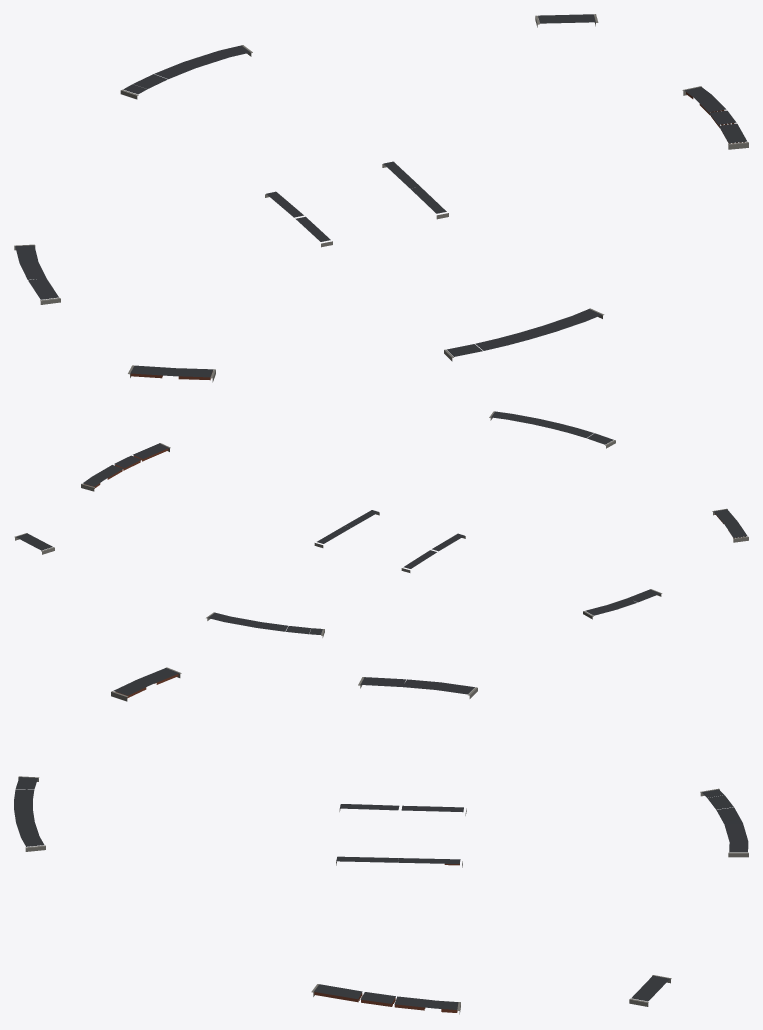
Rendered from br_h39_henday_yellowhead_2_lod3.gltf.
3 renders of one model, top to bottom at view 1: azimuth 30°, elevation 25°; view 2: azimuth 150°, elevation 25°; view 3: azimuth 270°, elevation 25°, orthographic. The views are drawn at different scales.
Parts seen in each view (by area): view 1: br_h39_henday_yellowhead_2_lod3; view 2: br_h39_henday_yellowhead_2_lod3; view 3: br_h39_henday_yellowhead_2_lod3.
Part boxes in pixels (<box>): br_h39_henday_yellowhead_2_lod3: <box>14,14,748,382</box>; br_h39_henday_yellowhead_2_lod3: <box>14,411,748,637</box>; br_h39_henday_yellowhead_2_lod3: <box>14,667,748,1014</box>.
Bounding box in the file's own units: 602 × 16.43 × 541.
